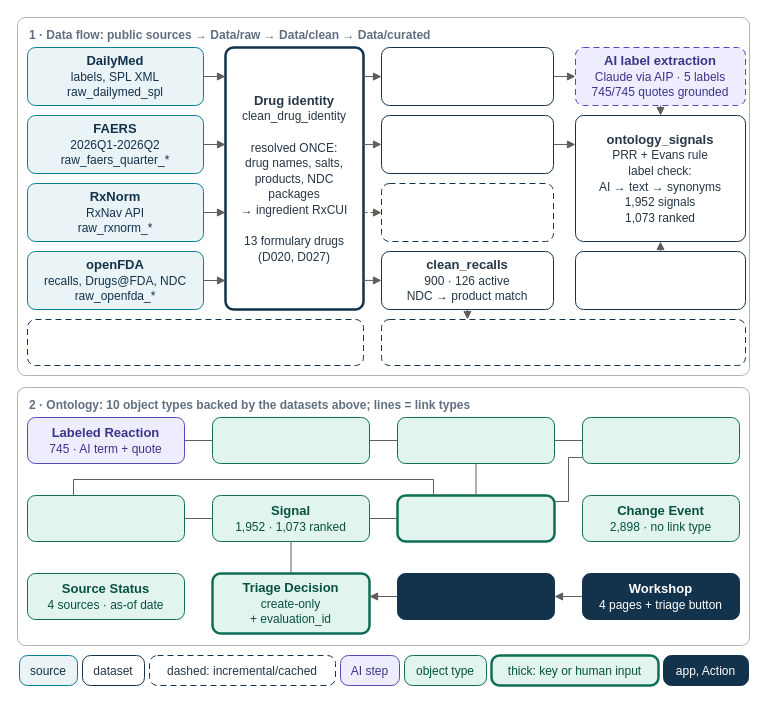
Image size: 767x704. Some labels were removed from this diagram. Each missing label, with the centre of its shape:
"Action Create Triage Decision" goes at pixel 475 596.
"AE Stat 14,921 · a, b, c, d, PRR" goes at pixel 105 518.
"clean_faers 792,346 current cases rules D021-D023 v2" goes at pixel 467 144.
"clean_labels 1,321 label versions safety sections" goes at pixel 467 76.
"Drug 13 · ingredient RxCUI" goes at pixel 475 518.
"FAERS incremental = full rebuild, row by row not used yet: slower" goes at pixel 467 212.
"Label 1,321 versions" goes at pixel 291 440.
"label_synonyms syn_v2: 258 rows band set by a person" goes at pixel 660 280.
"monitoring 21 checks per build + 4 Data Health checks" goes at pixel 195 342.
"ontology_changes 2,898 dated change events + as-of per source" goes at pixel 563 342.
"Product application number" goes at pixel 475 440.
"Recall 900 · 126 active" goes at pixel 661 440.
